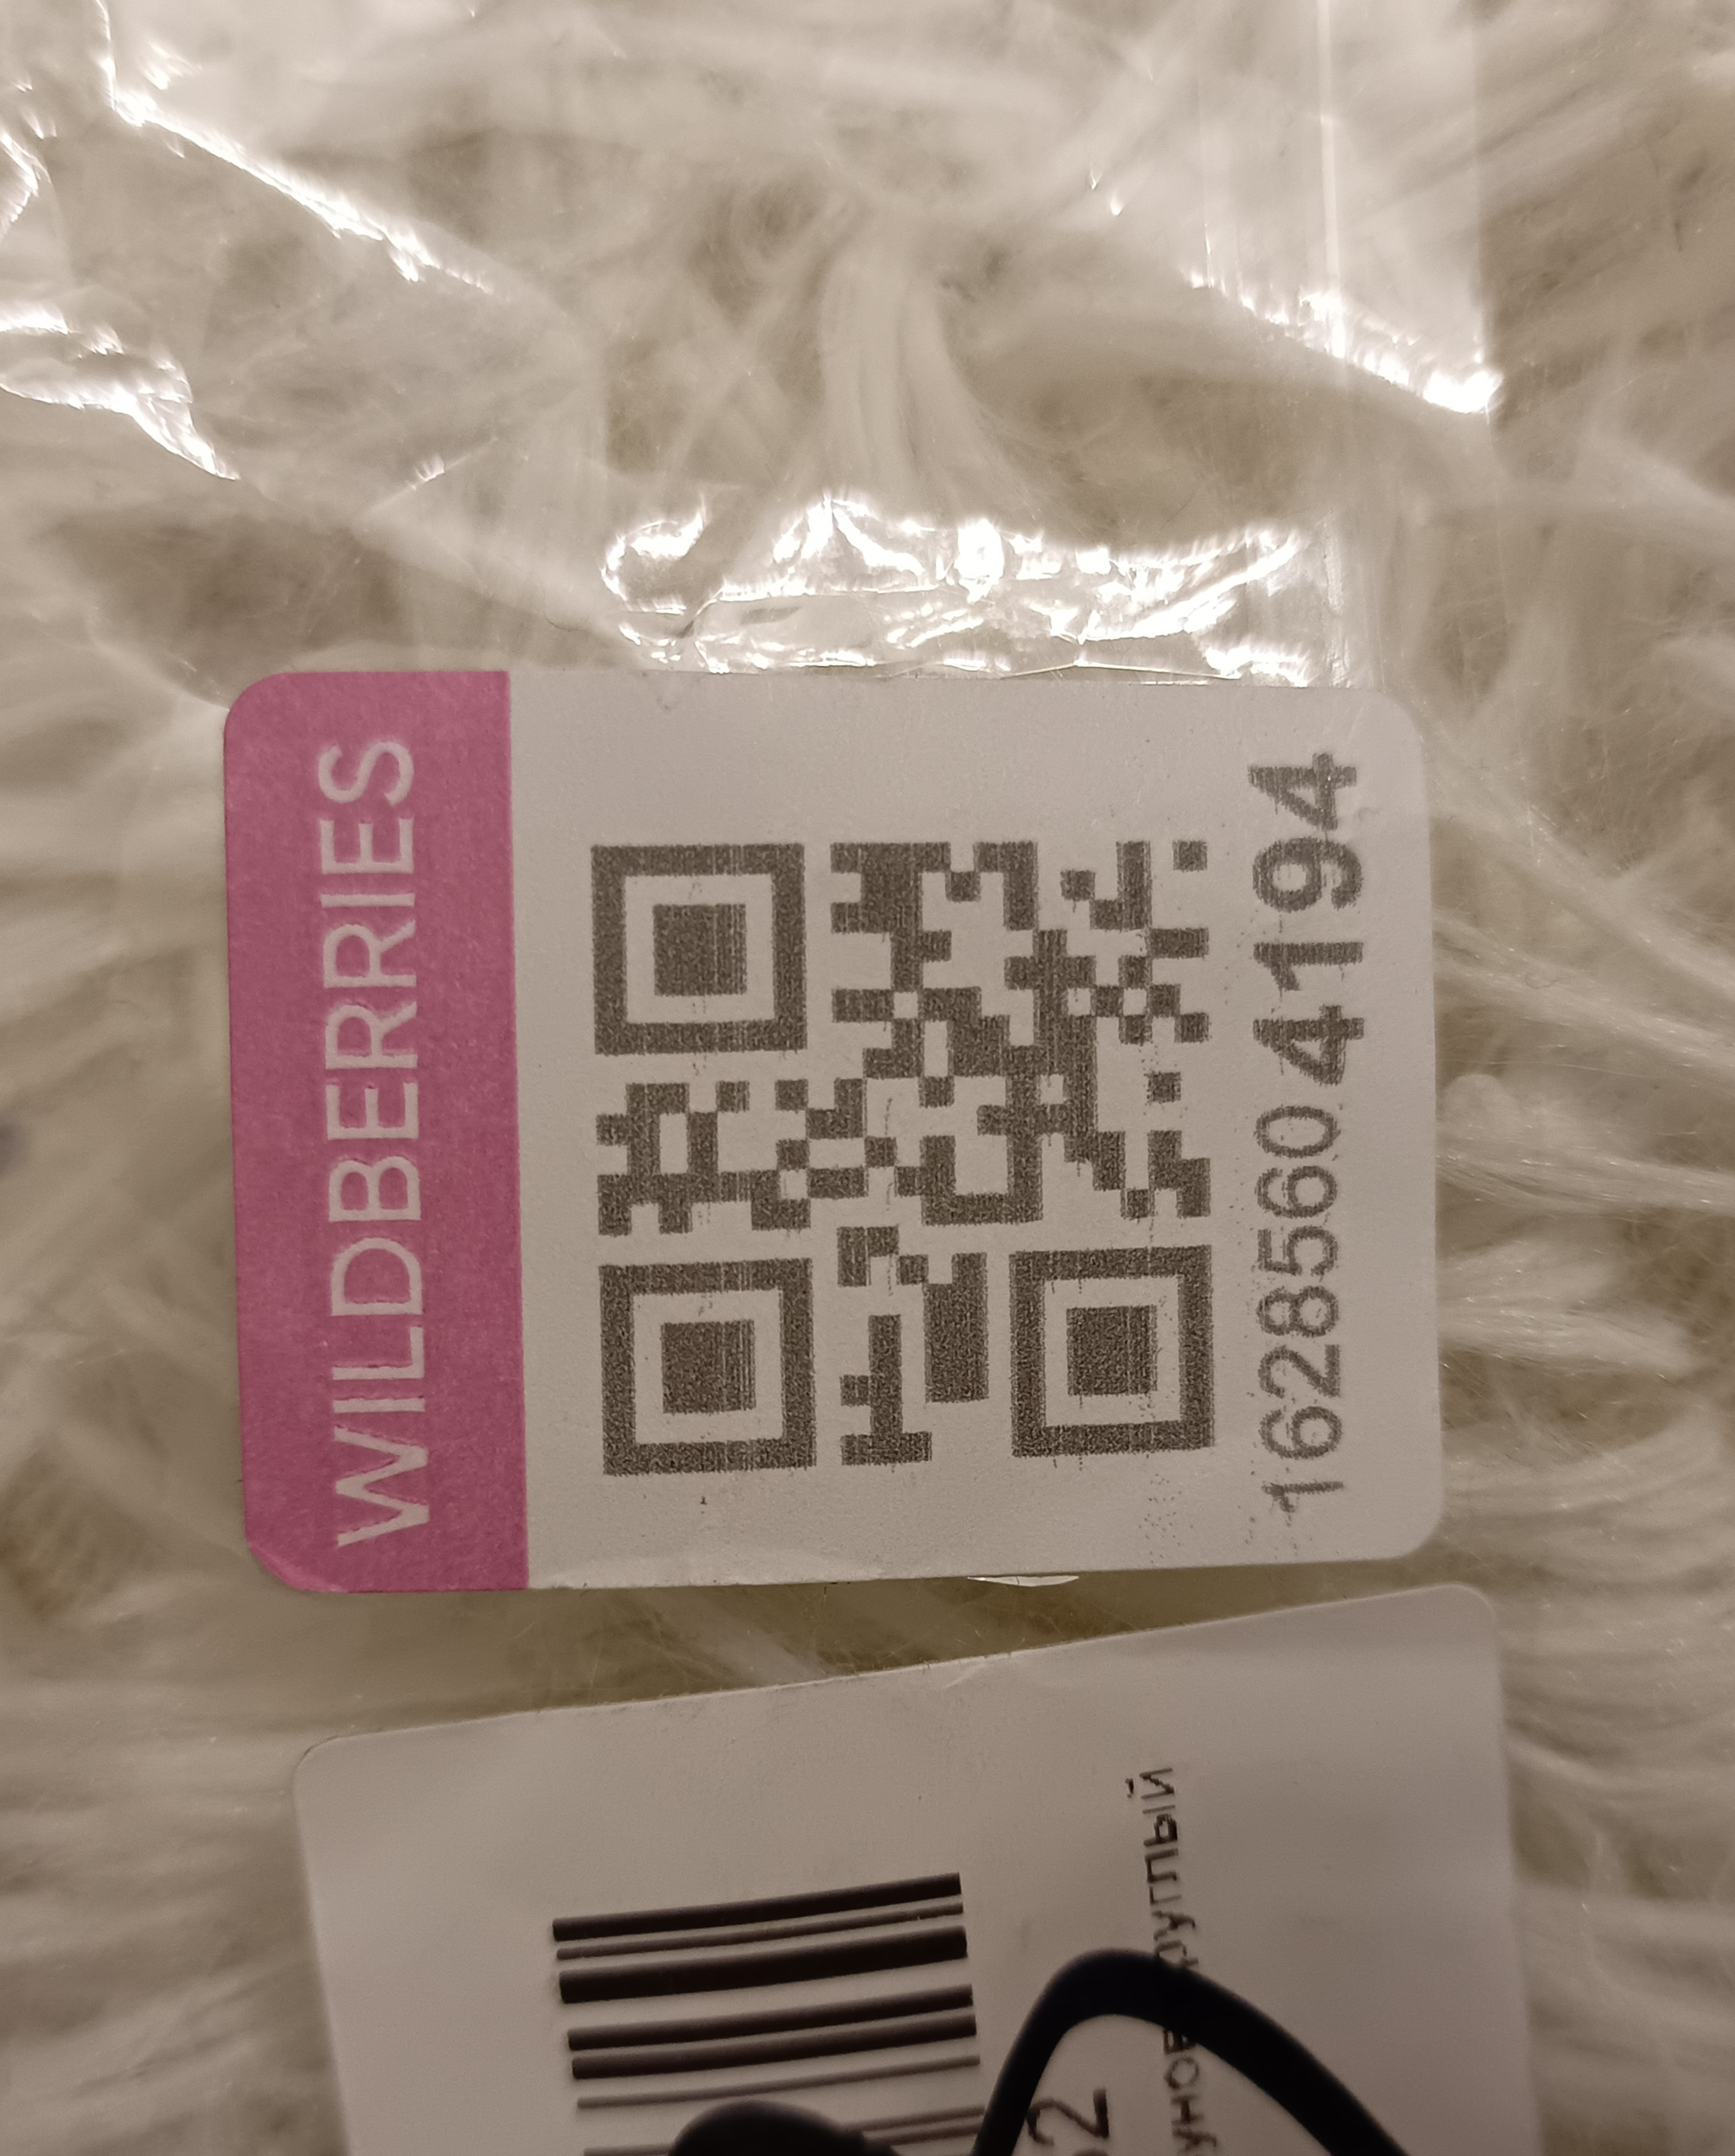2d: (593, 834, 1215, 1476)
